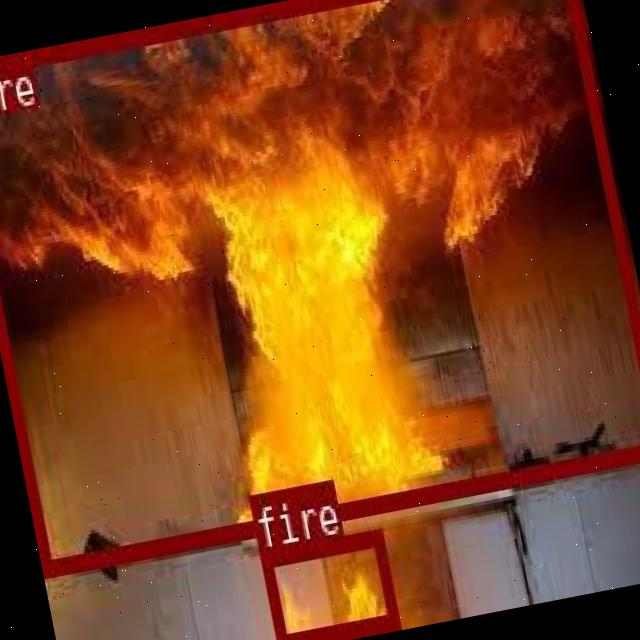fire: (0, 0, 640, 572), (257, 527, 396, 640)
